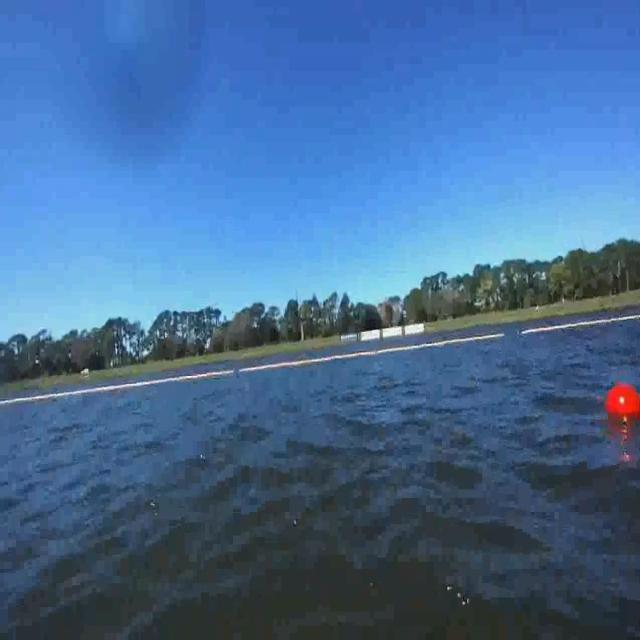red-buoy: (605, 385, 639, 422)
